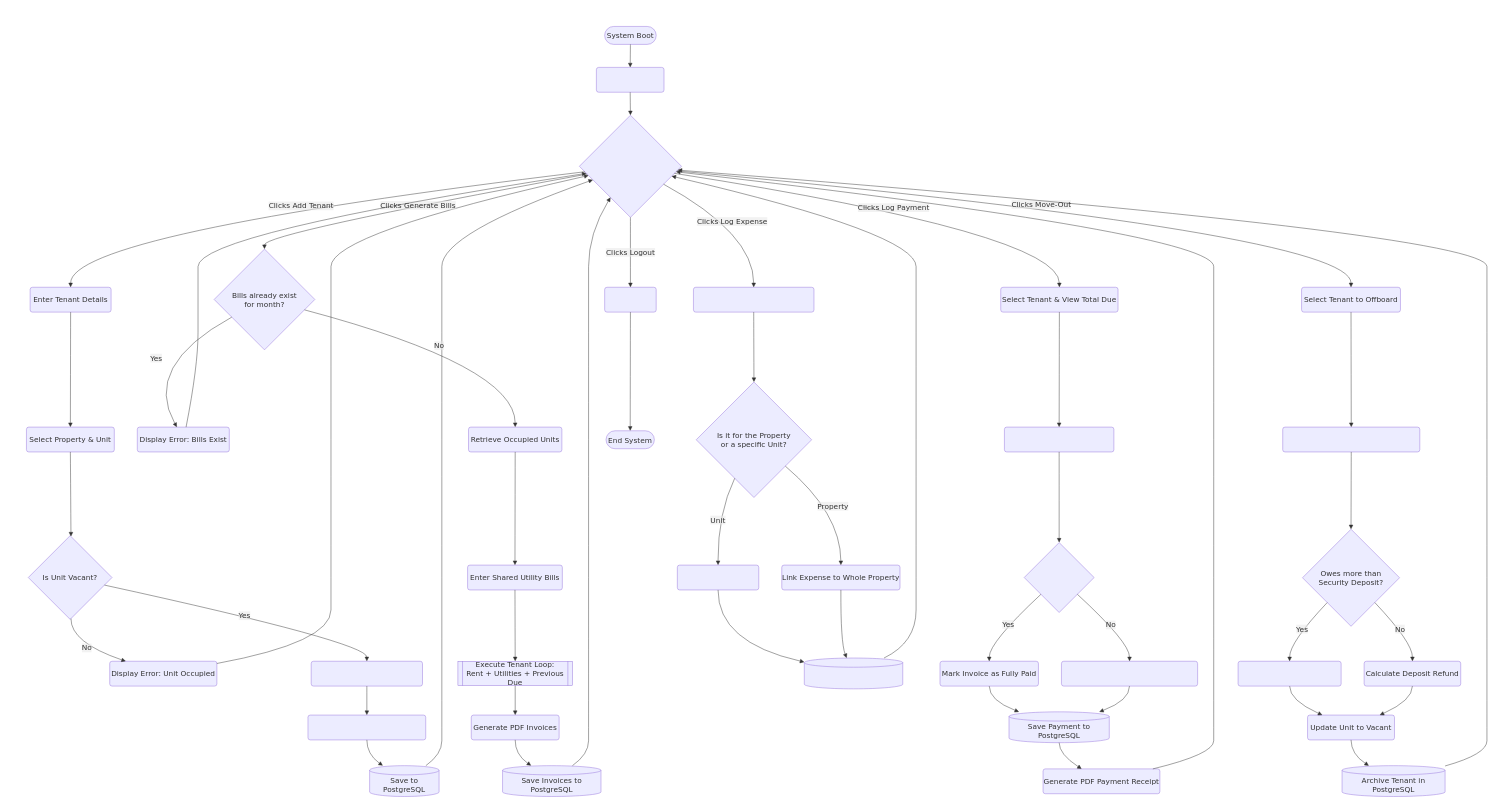
This 1495x805 diagram has some shape labels left out. Here are the shapes that lost their labels. From the top down, the centre of each, then its label:
the point at 630,79: Landlord Logs In
the point at 630,166: Main Dashboard: Waiting for Action
the point at 630,299: End Session
the point at 753,299: Enter Expense Details & Amount
the point at 1059,439: Enter Amount Paid by Tenant
the point at 1351,439: Check Unpaid Balances & Log Repairs
the point at 718,577: Link Expense to Unit
the point at 1059,577: Paid in Full?
the point at 367,673: Set Base Rent & Move-In Date
the point at 853,673: Save Expense to PostgreSQL
the point at 1129,673: Mark Partial, Calc Remaining Balance
the point at 1289,673: Generate Final Due Invoice
the point at 367,727: Update Unit Status to Occupied
